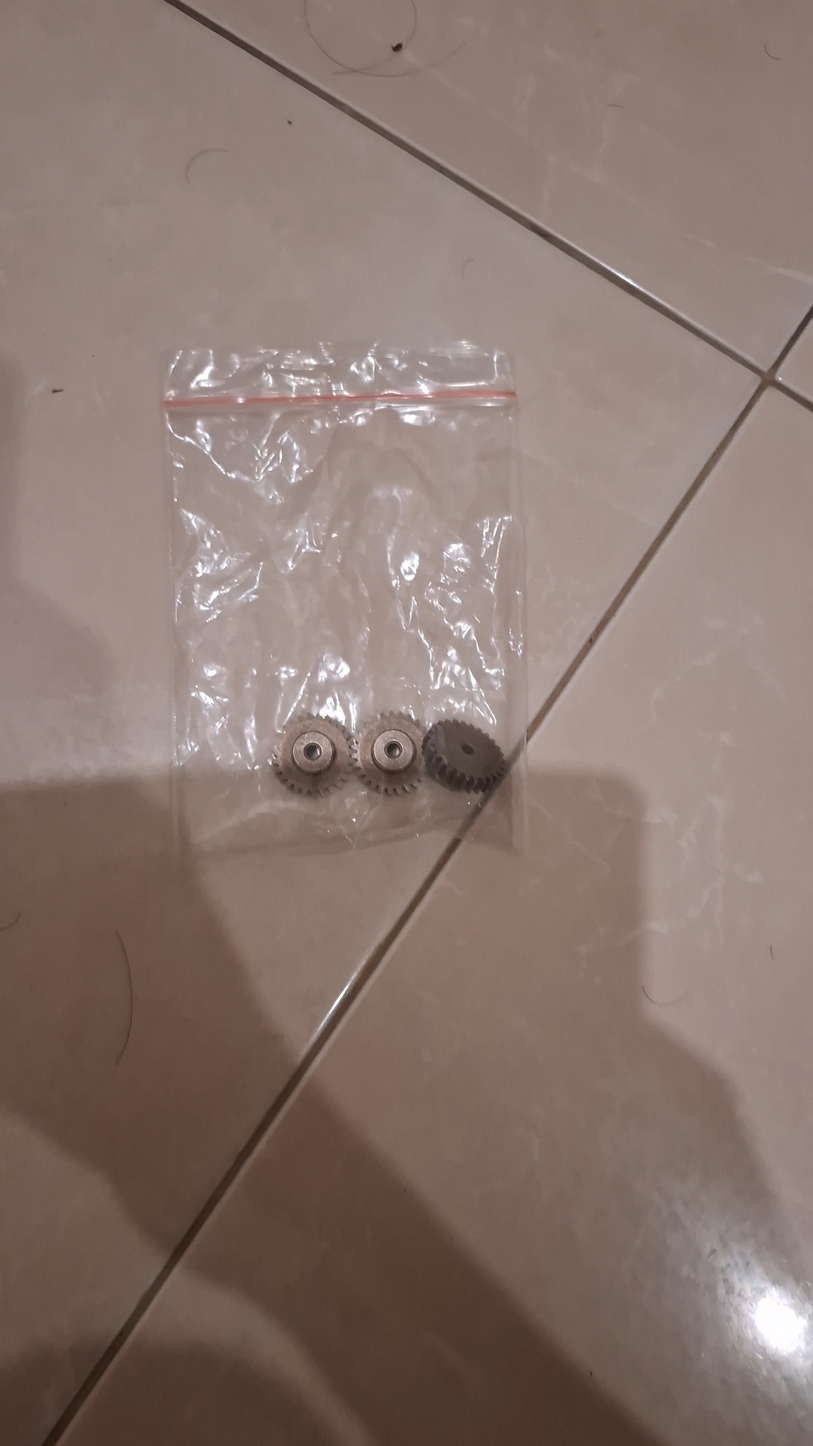spur gear: (271, 711, 356, 796), (419, 716, 509, 793), (353, 712, 429, 795)
